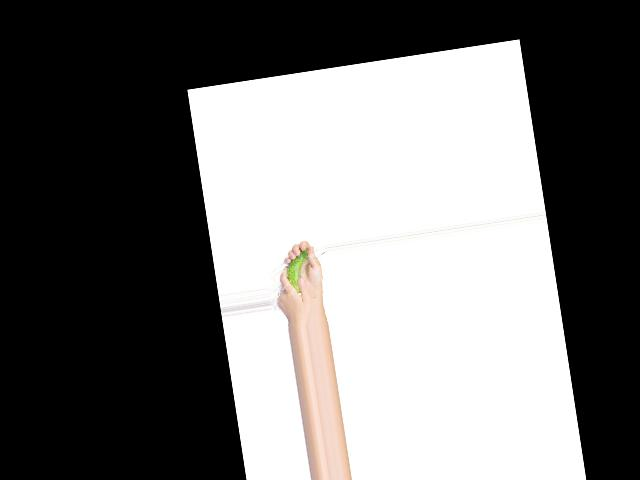cucumber: (282, 248, 314, 295)
